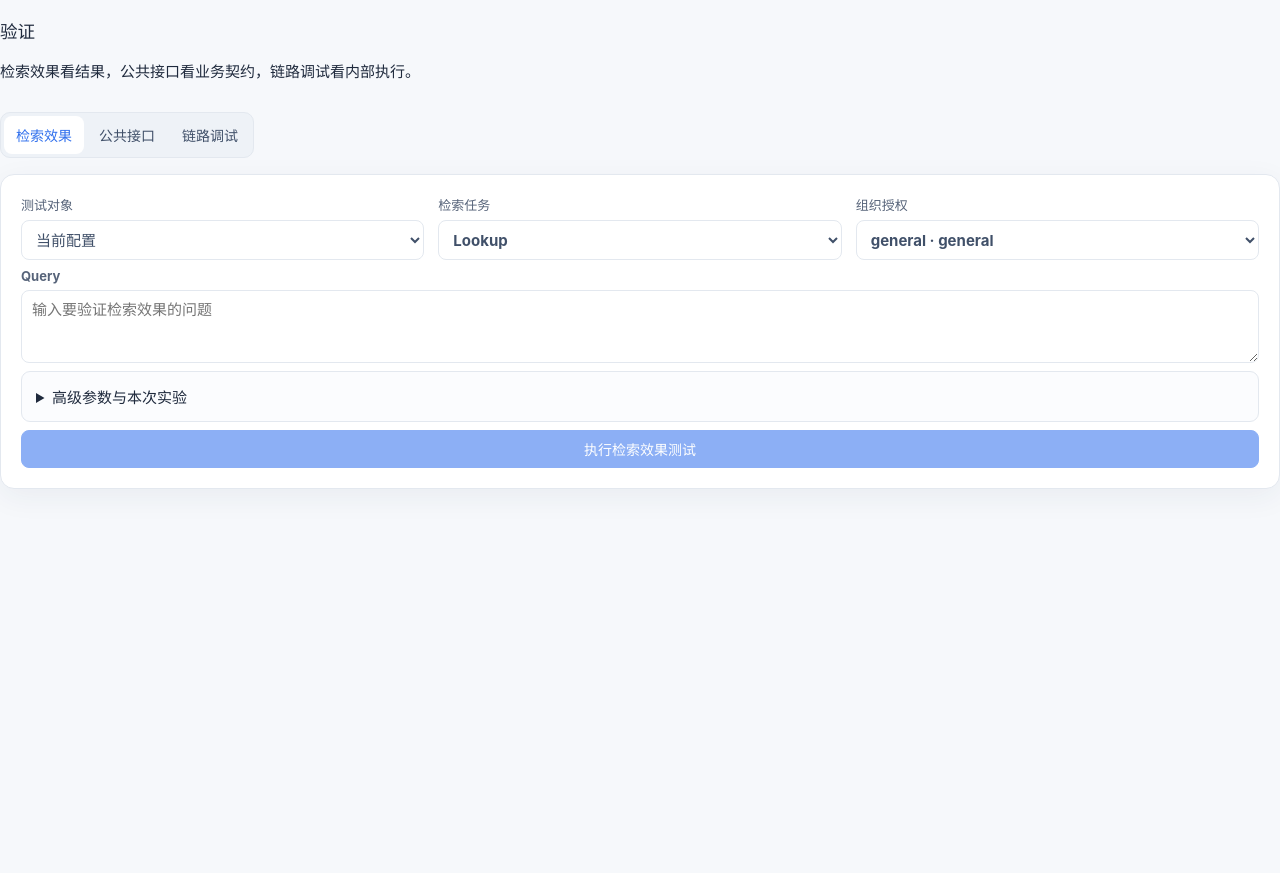
three-level retrieval validation › keeps a failed public partial trace available
Click the button "公共接口" at (127, 135), box left=87, top=116, right=167, bottom=154
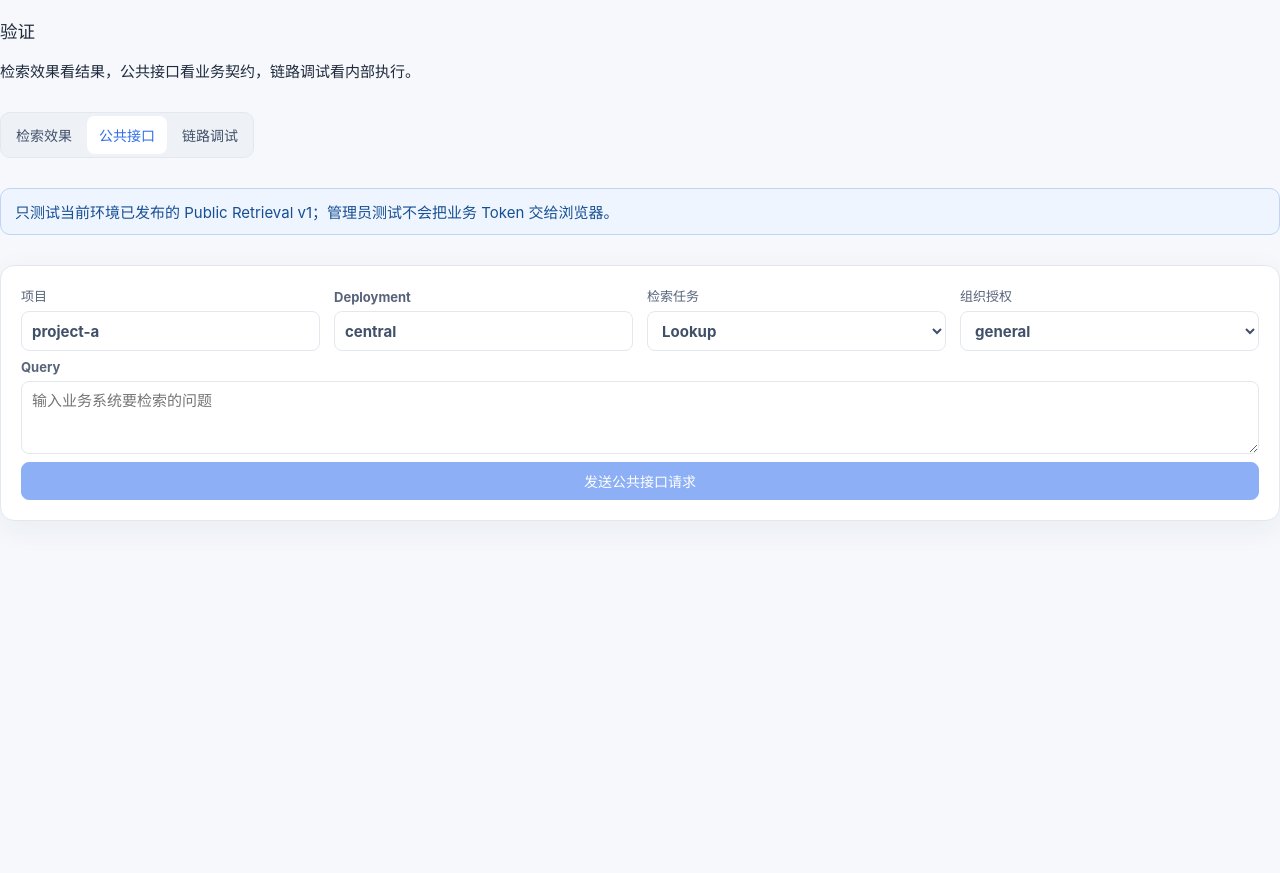
Type "question" into the text box labelled "Query" at (640, 418), box left=21, top=381, right=1259, bottom=454
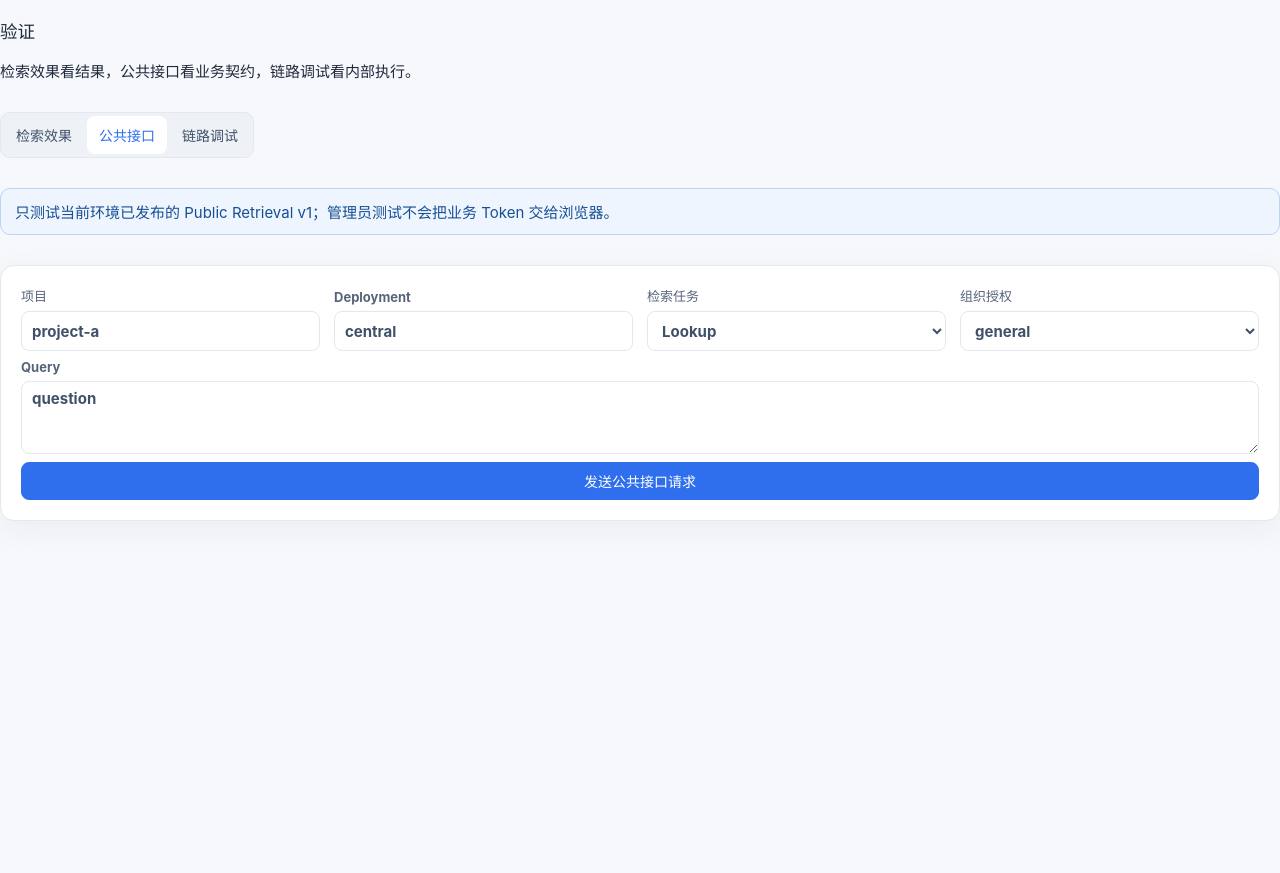
Submit the form, box left=0, top=265, right=1279, bottom=521
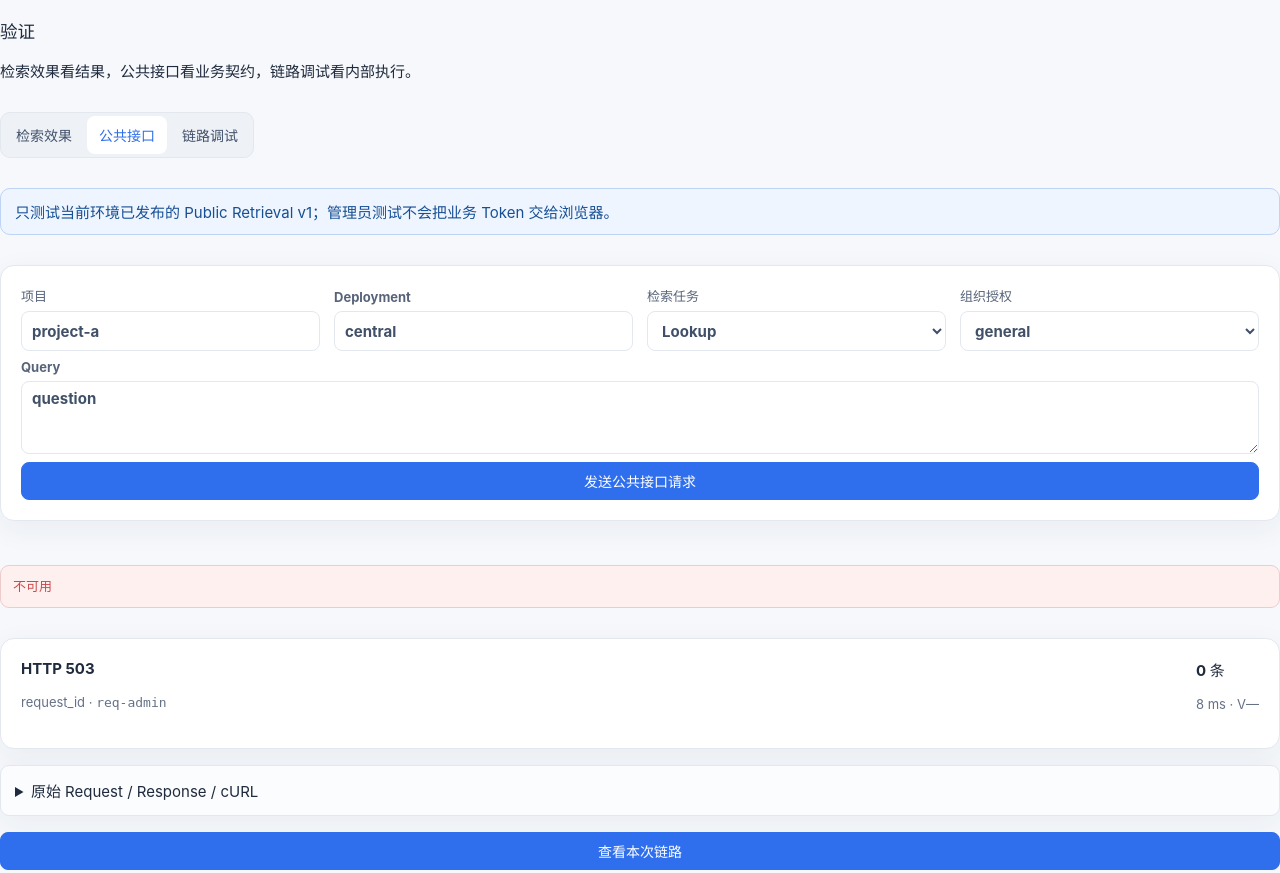
Check: the text "HTTP 503" is shown, box left=21, top=659, right=95, bottom=678
Click the button "查看本次链路" at (640, 851), box left=0, top=832, right=1279, bottom=870
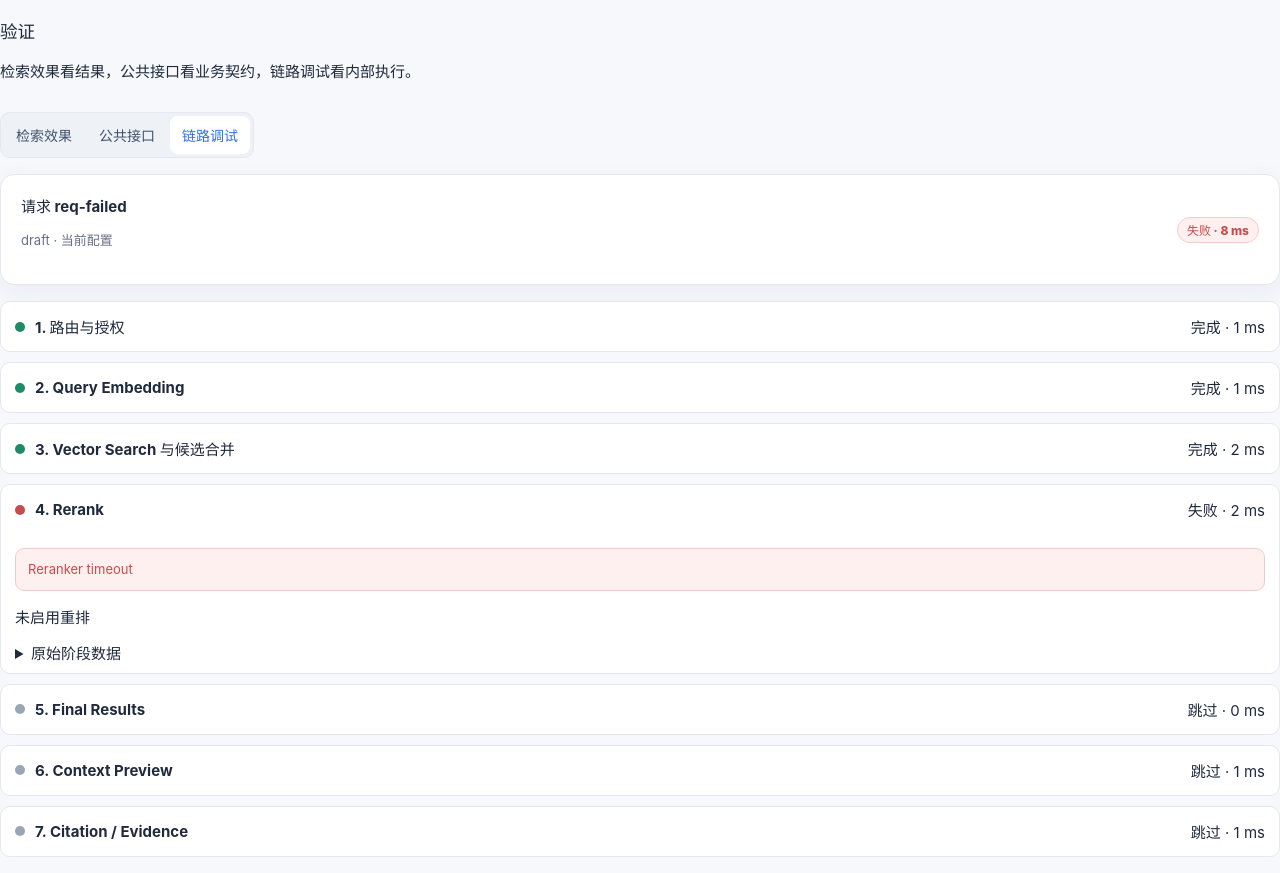
Check: the text "Reranker timeout" is shown, box left=15, top=548, right=1265, bottom=591
